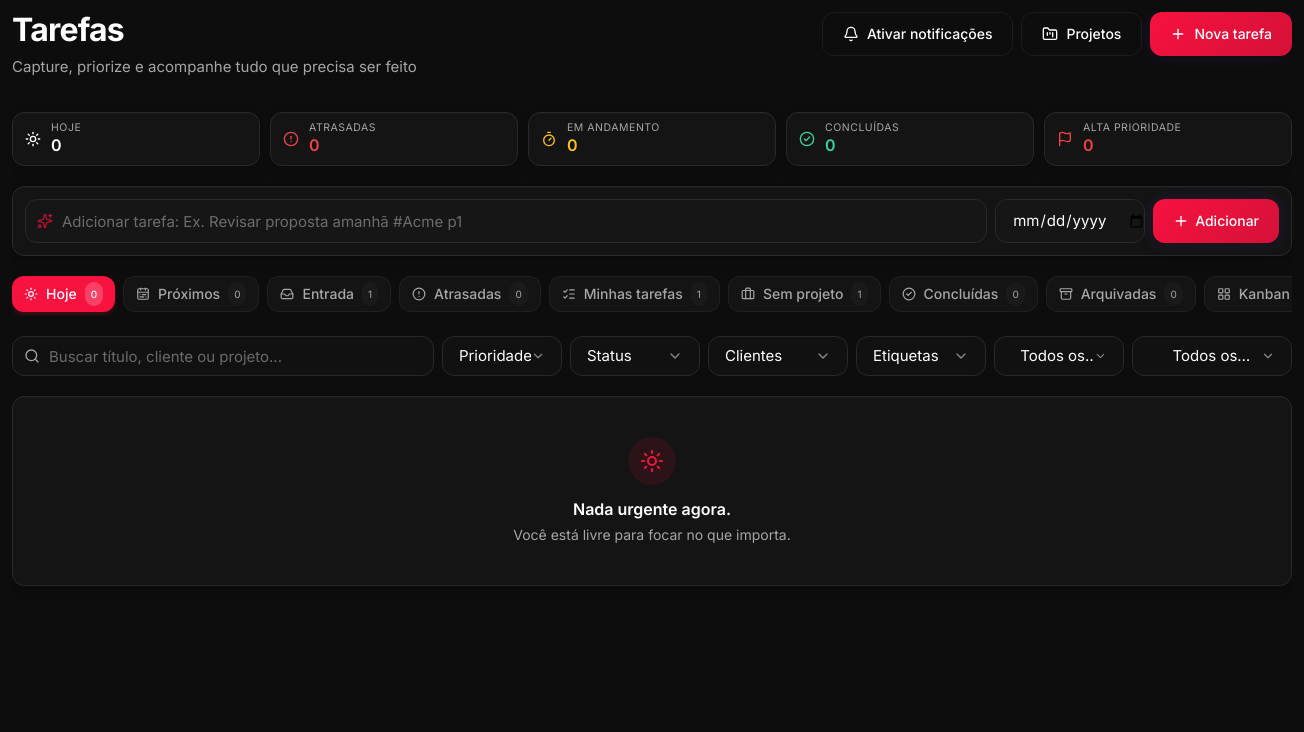
Tarefas · G79 — Select de cliente real (era clientsList mock) › filtro de cliente na lista principal mostra clientes REAIS (useClientsDataSource), não o mock antigo
This screenshot has width=1304, height=732.
Click the dropdown named "Filtrar por cliente" at (778, 356), box [708,336,848,376]
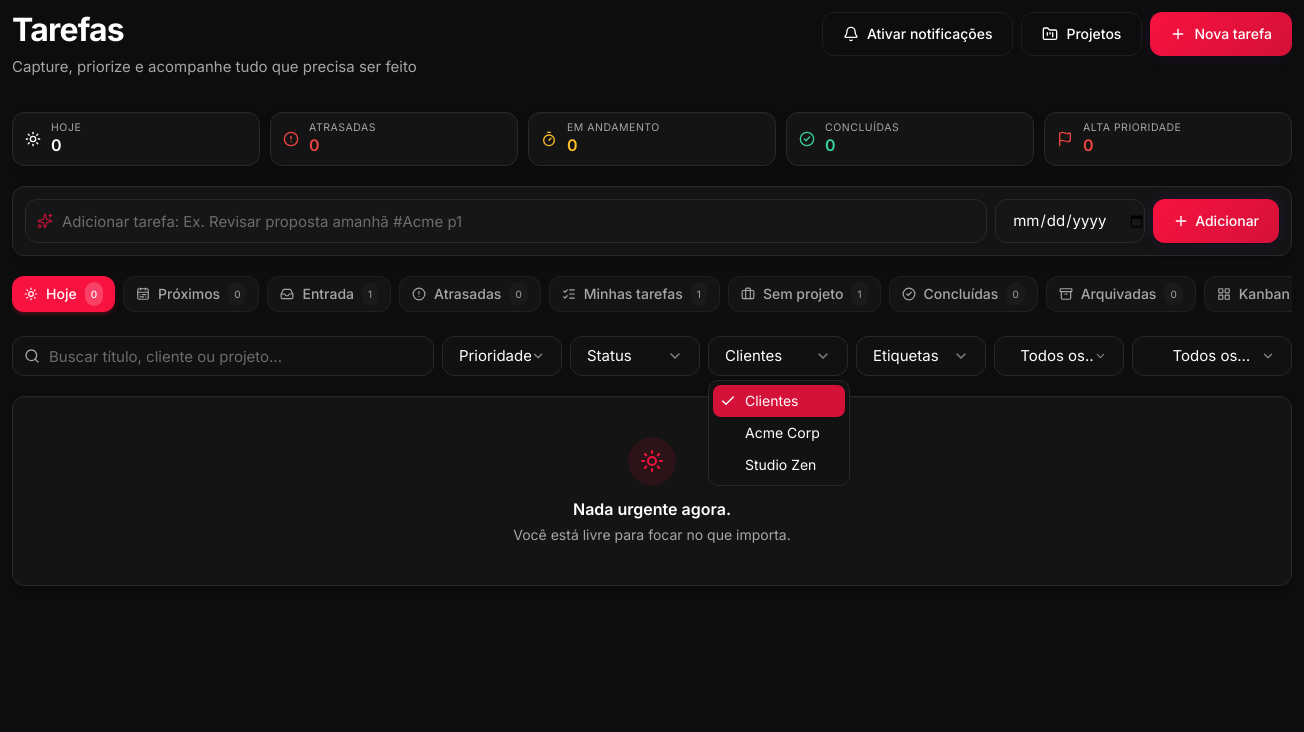
Check: the option "Acme Corp" is shown, box [745,424,820,441]
Check: the option "Studio Zen" is shown, box [745,456,816,473]
